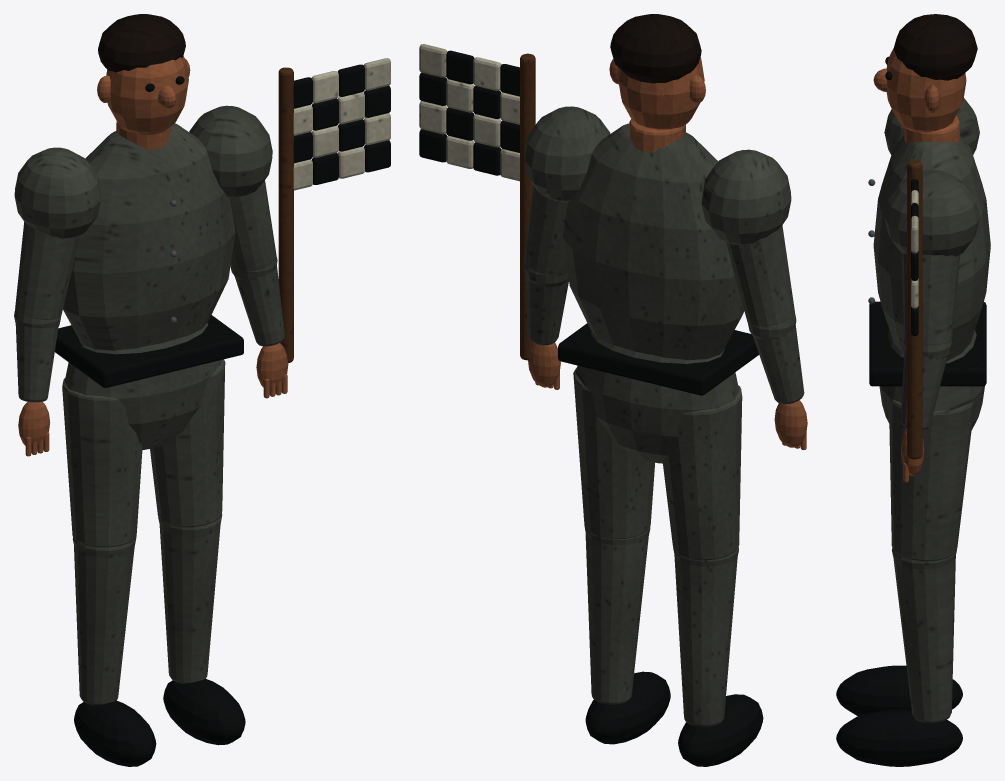
The model's file is PROP-E296DF5CA9A6_lod0.glb.
3 renders of one model, left to right at view 1: azimuth 30°, elevation 25°; view 2: azimuth 150°, elevation 25°; view 3: azimuth 270°, elevation 25°, orthographic. The views are drawn at different scales.
Parts seen in each view (by area): view 1: torso.038, thigh.037, calf.037, shoulder.038, shoe.037, upper_arm.038, pelvis.037, belt.037, checker_flag, checker_flag.001, forearm.038, head.037 (+7 smaller); view 2: torso.038, thigh.037, calf.037, shoulder.038, pelvis.037, upper_arm.038, shoe.037, checker_flag, checker_flag.001, belt.037, hair_cap.037, forearm.038 (+6 smaller); view 3: thigh.037, torso.038, shoe.037, calf.037, shoulder.038, hair_cap.037, belt.037, head.037, flag_pole, upper_arm.038, pelvis.037, forearm.038 (+7 smaller).
Boxes of the visible parts, <box> form: torso.038: <box>63,123,235,350</box>; thigh.037: <box>62,359,225,547</box>; calf.037: <box>74,525,220,705</box>; shoulder.038: <box>14,105,272,238</box>; shoe.037: <box>74,679,245,766</box>; upper_arm.038: <box>15,180,276,319</box>; pelvis.037: <box>64,323,222,450</box>; belt.037: <box>55,315,243,387</box>; checker_flag: <box>293,58,390,190</box>; checker_flag.001: <box>293,64,390,184</box>; forearm.038: <box>15,265,284,402</box>; head.037: <box>106,56,188,135</box>; torso.038: <box>562,123,744,360</box>; thigh.037: <box>573,367,742,560</box>; calf.037: <box>585,533,737,726</box>; shoulder.038: <box>524,106,791,244</box>; pelvis.037: <box>576,331,739,463</box>; upper_arm.038: <box>524,185,794,326</box>; shoe.037: <box>585,671,763,766</box>; checker_flag: <box>419,44,519,181</box>; checker_flag.001: <box>419,50,519,175</box>; belt.037: <box>558,323,758,395</box>; hair_cap.037: <box>610,14,701,83</box>; forearm.038: <box>525,275,804,404</box>; thigh.037: <box>889,399,974,561</box>; torso.038: <box>873,135,990,360</box>; shoe.037: <box>836,665,962,766</box>; calf.037: <box>893,555,955,723</box>; shoulder.038: <box>884,98,979,256</box>; hair_cap.037: <box>893,14,977,80</box>; belt.037: <box>869,301,986,386</box>; head.037: <box>886,48,966,132</box>; flag_pole: <box>907,160,922,459</box>; upper_arm.038: <box>901,253,960,344</box>; pelvis.037: <box>879,330,984,429</box>; forearm.038: <box>900,348,947,429</box>.
Size of the model in its own units: 0.9987 by 1.84 by 0.3561.
7 materials, 7 textured.
